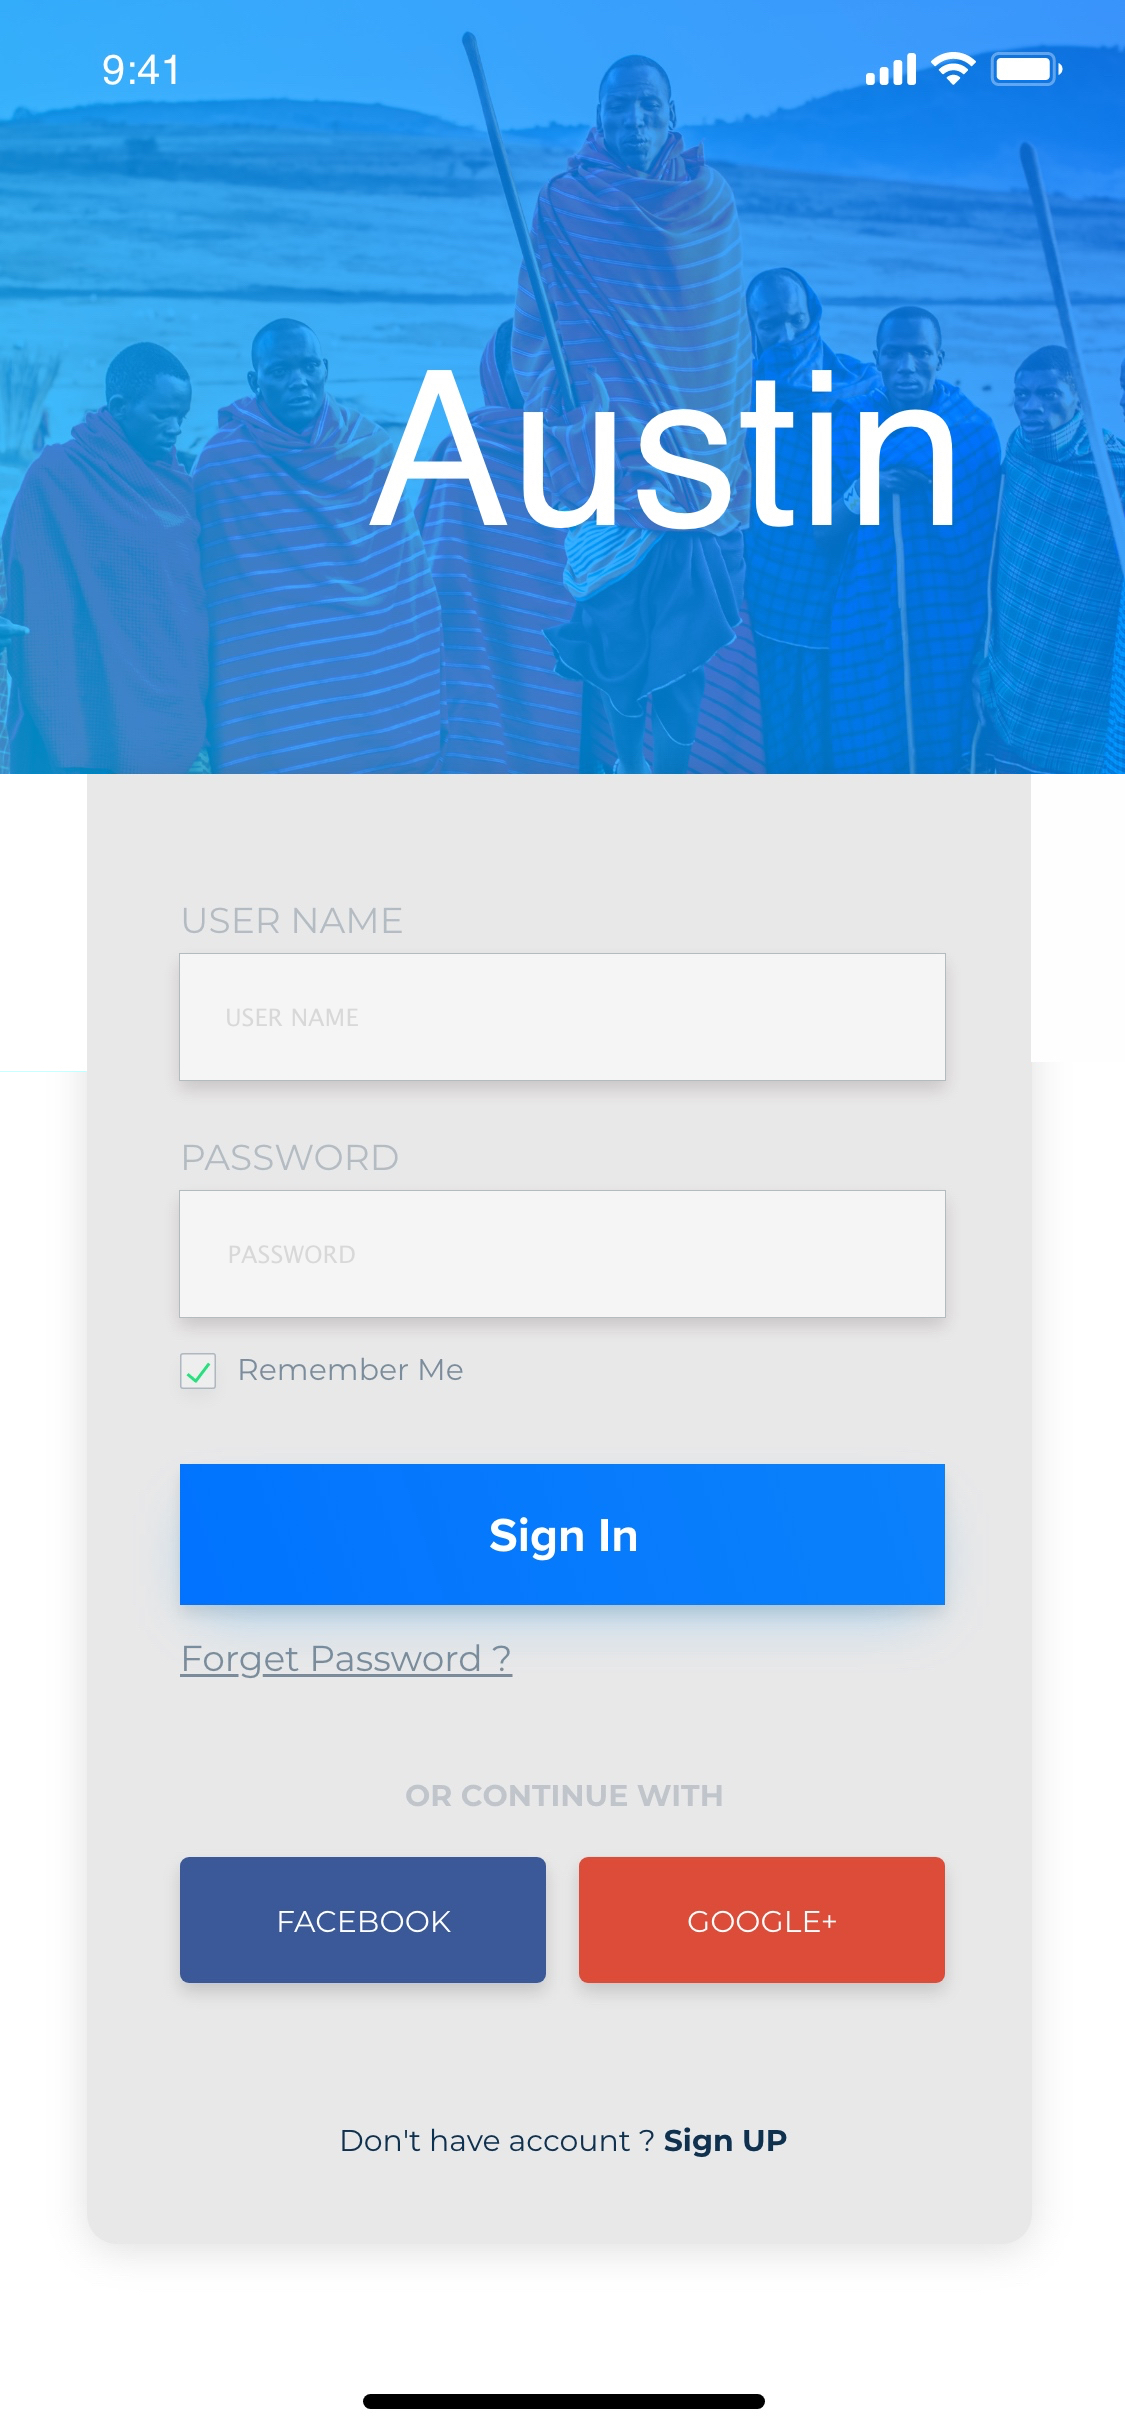CheckedTextView: (180, 1353, 465, 1390)
EditText: (179, 952, 946, 1081), (179, 1190, 946, 1319)
Image: (2, 2, 1125, 775)
Text: (368, 370, 954, 531), (340, 2125, 788, 2159), (180, 1644, 514, 1679), (406, 1783, 723, 1808), (183, 907, 402, 935), (185, 1143, 399, 1171), (239, 1356, 465, 1381), (227, 1007, 360, 1028), (230, 1244, 356, 1265)
TextButton: (180, 1463, 946, 1606), (180, 1857, 547, 1984), (580, 1857, 946, 1984)
UpperTaskBar: (103, 51, 1064, 89)
